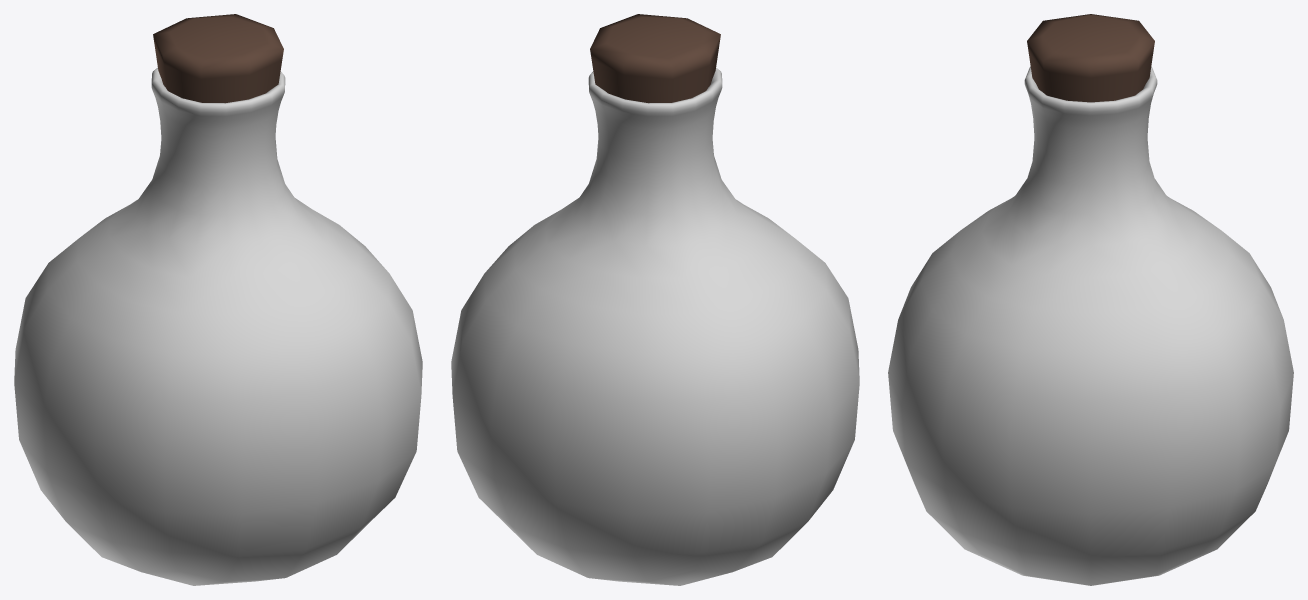
File: potion.glb
3 views of the same model, side by side, from view 1: azimuth 30°, elevation 25°; view 2: azimuth 150°, elevation 25°; view 3: azimuth 270°, elevation 25° (orthographic).
Parts seen in each view (by area): view 1: Potion1_Filled_Cube.082; view 2: Potion1_Filled_Cube.082; view 3: Potion1_Filled_Cube.082.
Part boxes in pixels (box(x1,y1,x2,y2)): Potion1_Filled_Cube.082: box(14, 14, 422, 585); Potion1_Filled_Cube.082: box(451, 14, 859, 585); Potion1_Filled_Cube.082: box(888, 14, 1293, 585).
Size of the model in its own units: 0.6685 by 0.9629 by 0.6685.
